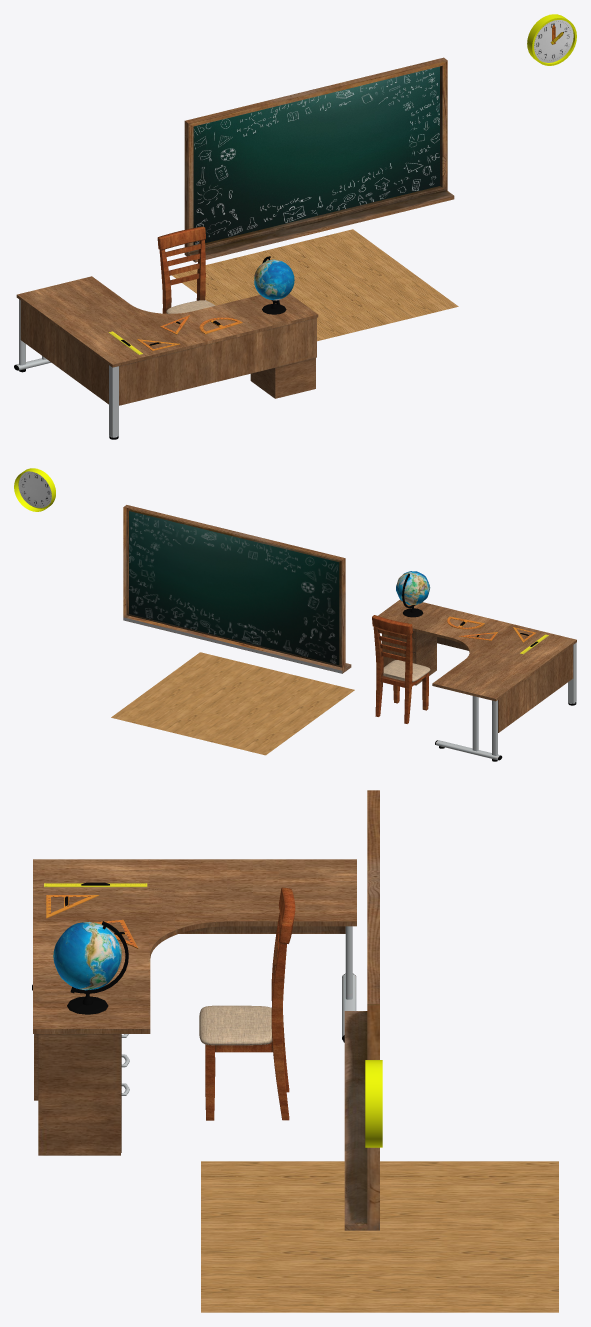
The model's file is classroom_gameready_optimised.glb.
3 views of the same model, one above another, from view 1: azimuth 30°, elevation 25°; view 2: azimuth 150°, elevation 25°; view 3: azimuth 270°, elevation 25° (orthographic). The views are drawn at different scales.
Parts seen in each view (by area): view 1: Blackboard, Table, FloorTile, Chair, Clock, Globe; view 2: Blackboard, FloorTile, Table, Chair, Clock, Globe; view 3: FloorTile, Table, Blackboard, Chair, Globe, Clock.
Boxes of the visible parts, <box> form: Blackboard: <box>184,57,454,262</box>; Table: <box>14,276,318,439</box>; FloorTile: <box>172,229,458,341</box>; Chair: <box>157,226,215,313</box>; Clock: <box>527,14,576,65</box>; Globe: <box>254,256,294,314</box>; Blackboard: <box>123,505,351,673</box>; FloorTile: <box>111,652,354,755</box>; Table: <box>378,599,576,761</box>; Chair: <box>372,615,430,723</box>; Clock: <box>14,468,55,511</box>; Globe: <box>396,571,430,617</box>; FloorTile: <box>201,1161,558,1312</box>; Table: <box>32,859,356,1155</box>; Blackboard: <box>344,790,379,1230</box>; Chair: <box>199,887,295,1120</box>; Globe: <box>53,921,128,1014</box>; Clock: <box>365,1060,382,1147</box>.
Bounding box in the file's own units: 6.18 × 2.27 × 2.95.
Materials: 5 (5 with a texture image).
